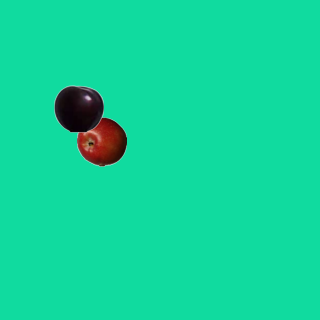Apple Braeburn: (76, 116, 126, 166)
Cherry Wax Black: (53, 83, 103, 133)
